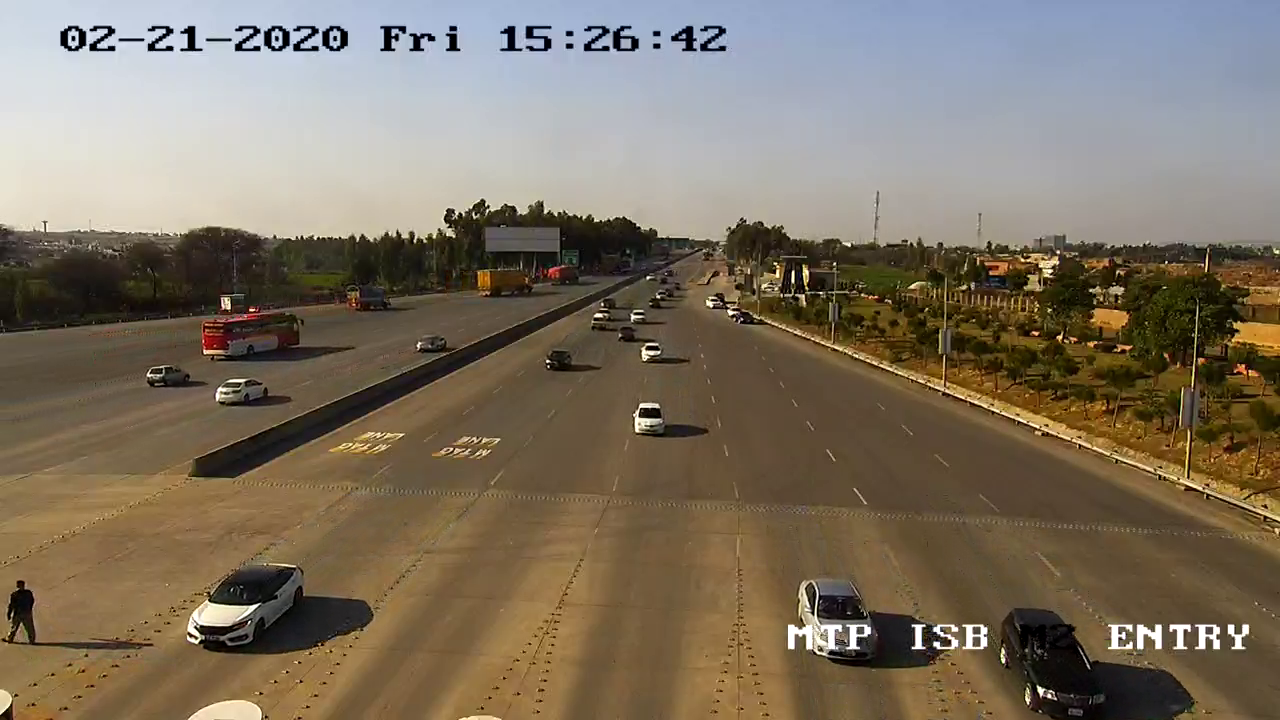f1: (179, 554, 314, 656), (625, 398, 676, 445)
